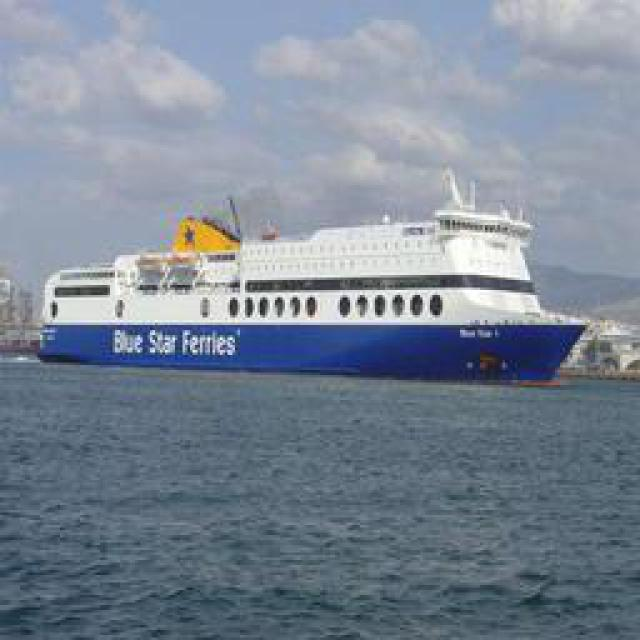Ship: (36, 181, 591, 381)
